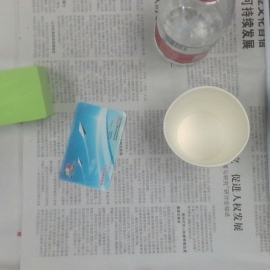bottle: (154, 1, 235, 66)
card: (60, 102, 127, 193)
cup: (163, 85, 249, 168)
